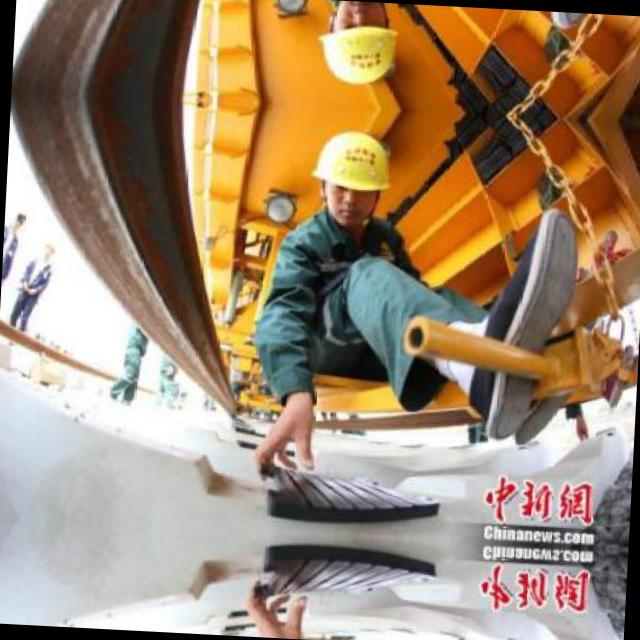helmet: (308, 116, 397, 234), (315, 0, 404, 99)
